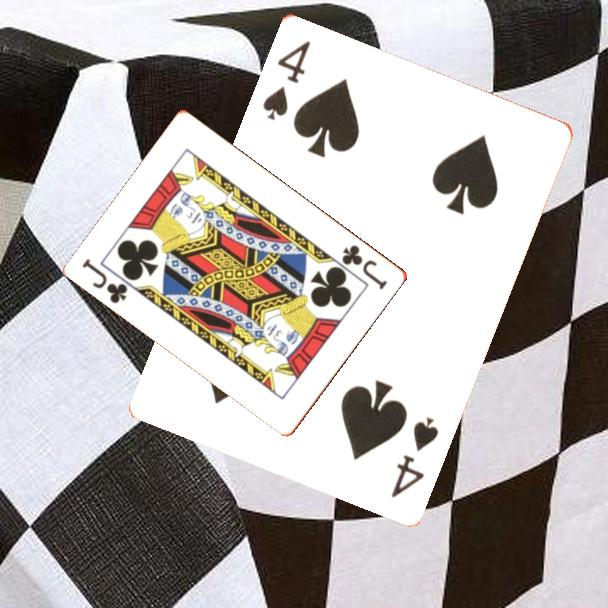c11: (339, 241, 391, 293), (79, 255, 131, 306)
s04: (387, 412, 442, 500), (258, 36, 313, 123)
